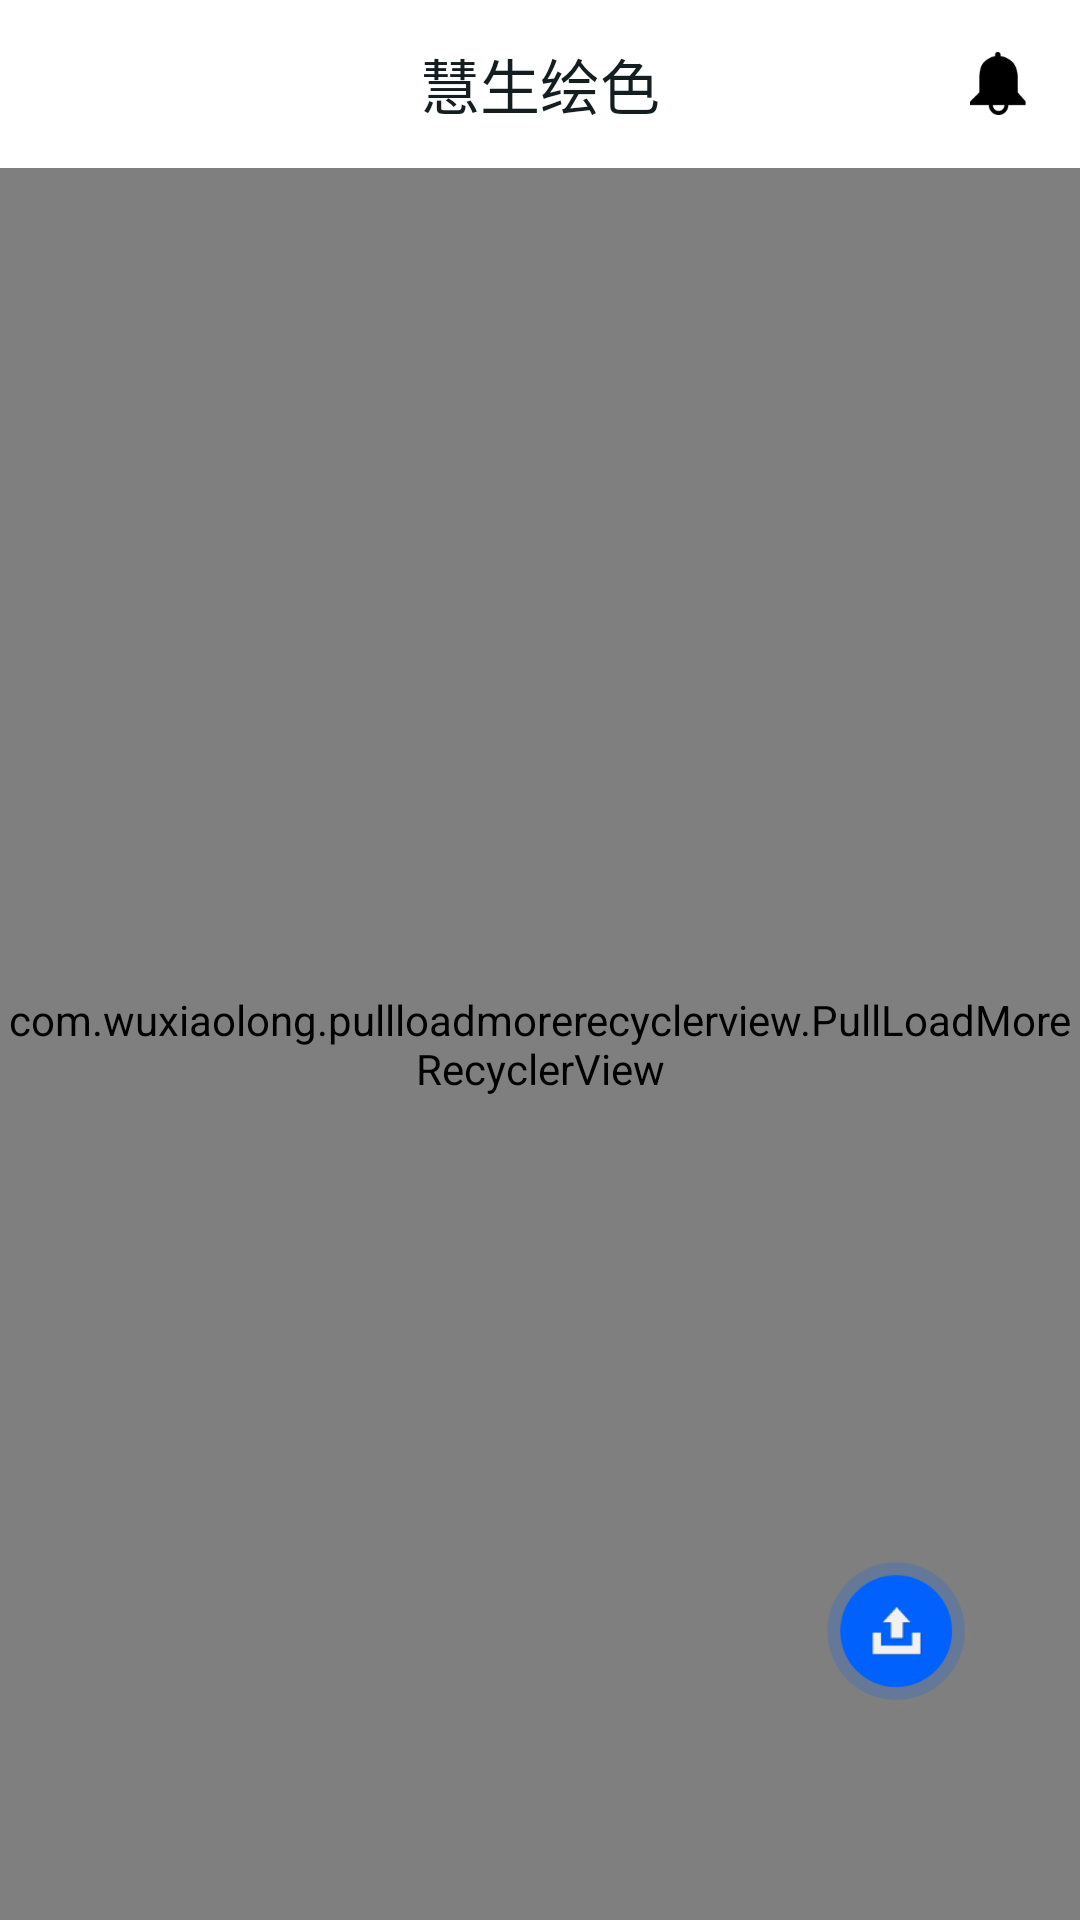

Icon bounding boxes for this 1080px x 1920px phone screenshot, format [x1=x1, y1=y1, x2=x2, y2=y2]:
notify: [x1=970, y1=52, x2=1026, y2=115]
